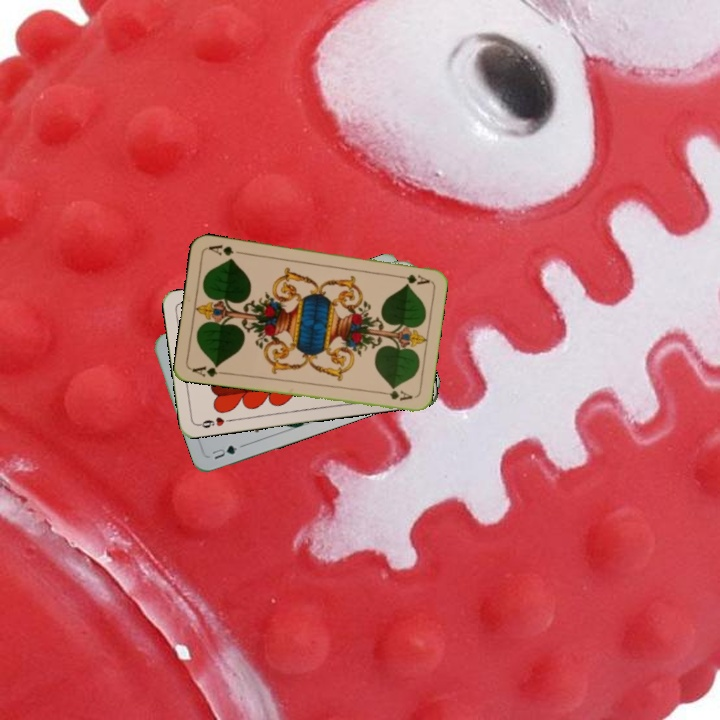GA: (188, 361, 229, 380), (392, 270, 432, 287)
GU: (208, 441, 240, 462)
H9: (194, 413, 234, 431)
